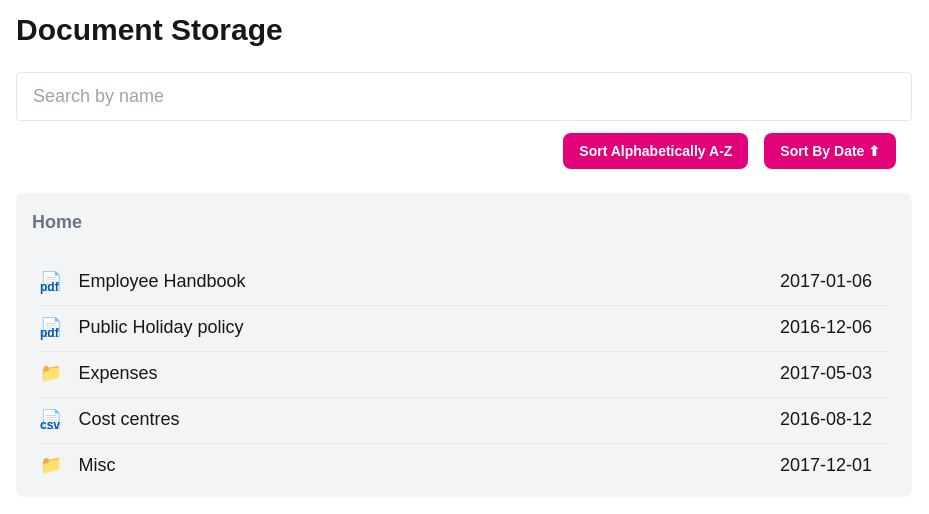
Home › can sort the files alphabetically by name
This screenshot has width=929, height=514.
Check: the text with test id "file-name" reads "Employee Handbook", box [78,270,246,290]
Click the button "Sort Alphabetically A-Z" at [656, 150], box [563,132,748,168]
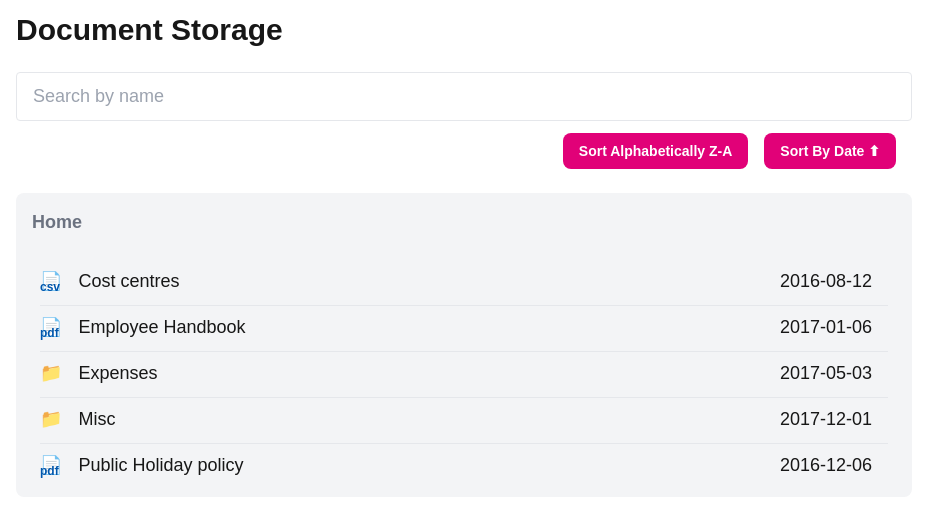
Check: the text with test id "file-name" reads "Cost centres", box [78,270,180,290]
